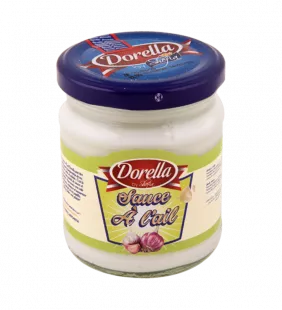DORELLA: (45, 20, 236, 284)
